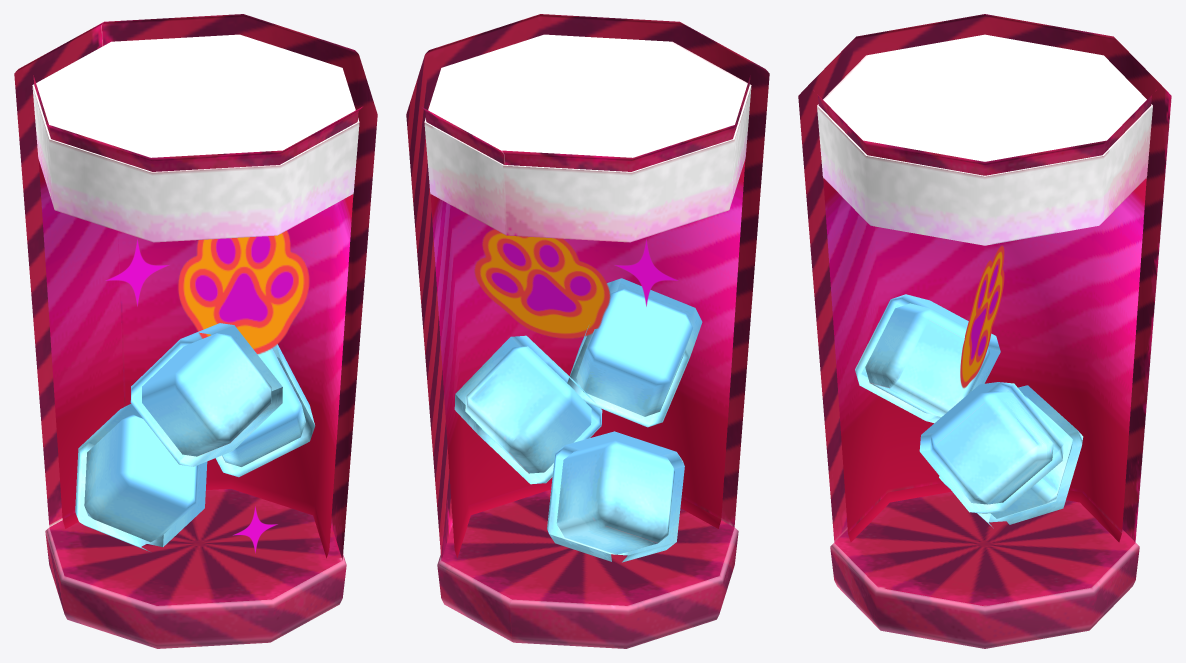
File: CosmicLatte.glb
3 views of the same model, side by side, from view 1: azimuth 30°, elevation 25°; view 2: azimuth 150°, elevation 25°; view 3: azimuth 270°, elevation 25° (orthographic).
Visible parts, largest first — view 1: CosmicLatte; view 2: CosmicLatte; view 3: CosmicLatte.
Boxes of the visible parts, x1=… form: CosmicLatte: x1=14, y1=14, x2=377, y2=648; CosmicLatte: x1=406, y1=14, x2=769, y2=648; CosmicLatte: x1=798, y1=14, x2=1171, y2=648.
Size of the model in its own units: 0.2983 by 0.4409 by 0.2983.
3 materials, 3 textured.
